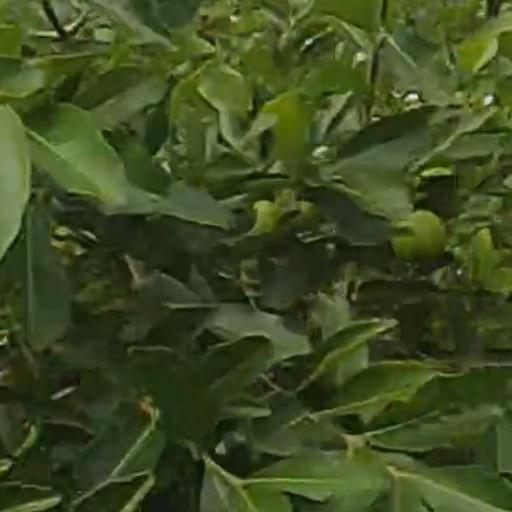acerola: (394, 212, 444, 259)
